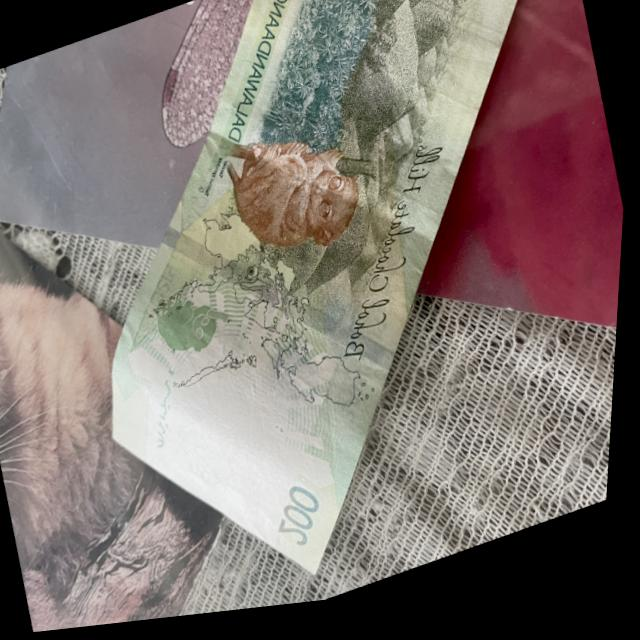200_tarsier: (185, 84, 411, 310)
200_tarsier_watermark: (133, 261, 243, 389)
